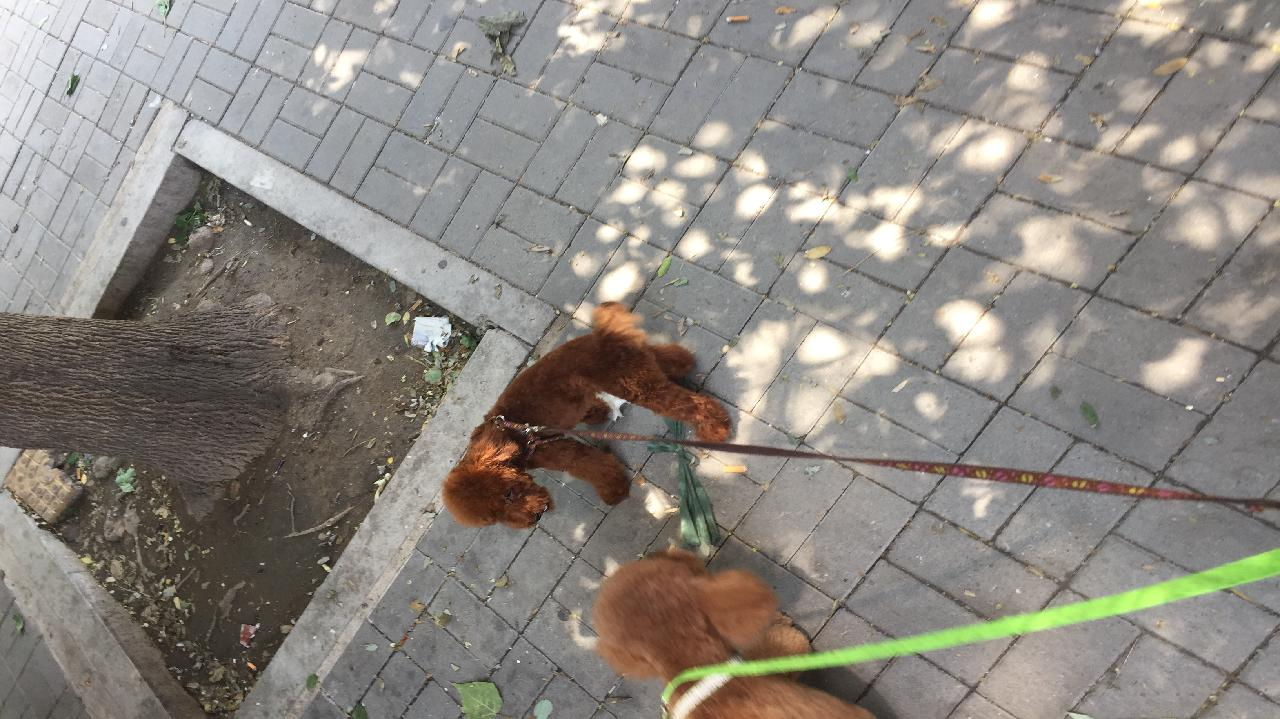coin: (432, 330, 729, 527)
zhuangzhuang: (581, 555, 884, 719)
